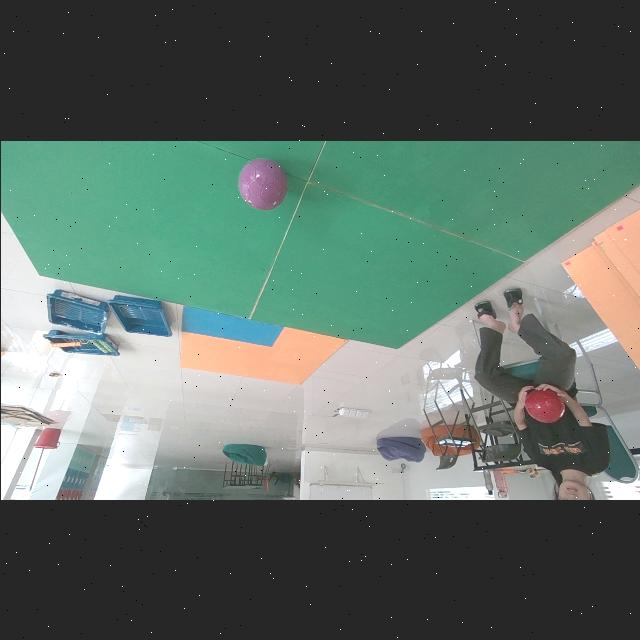P: (237, 158, 287, 210)
R: (524, 389, 565, 423)
